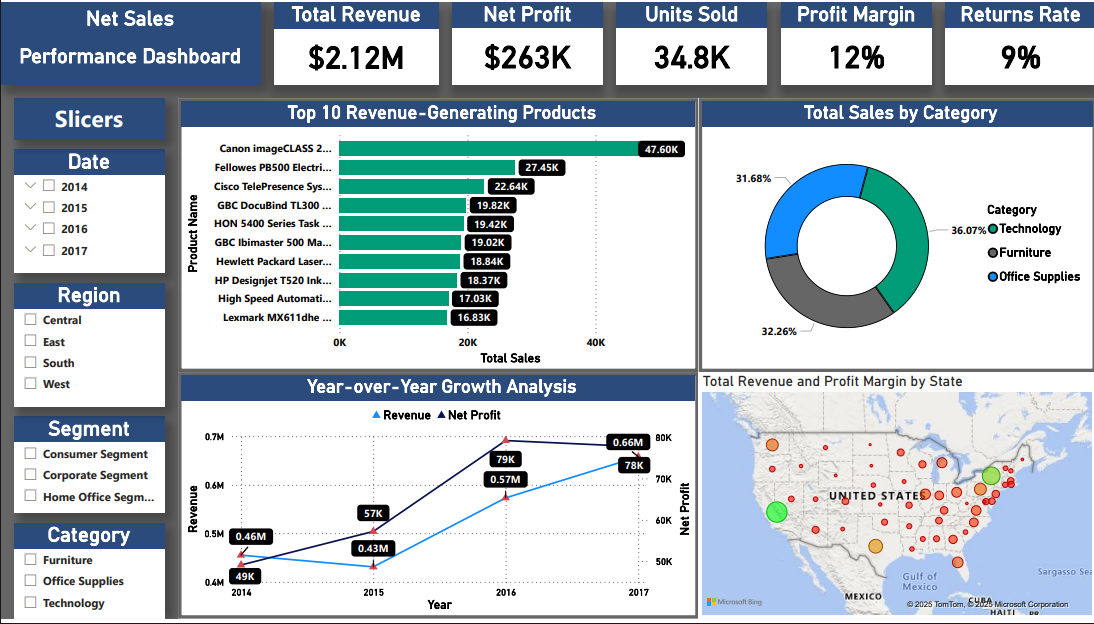

The page's visual inventory and layout, read from the dashboard file:
{"tool":"powerbi","page":{"name":"Sales & Profit Analysis","canvas":[1280,720],"ordinal":0},"visuals":[{"type":"card","title":"Total Revenue","fields":{"Values":["Orders.Total Sales"]},"box":[320,0,192,96],"z":0},{"type":"card","title":"Net Profit","fields":{"Values":["Orders.Total Profit"]},"box":[528,0,176,96],"z":1000},{"type":"card","title":"Units Sold","fields":{"Values":["Orders.Total Quantity"]},"box":[720,0,176,96],"z":2000},{"type":"card","title":"Returns Rate","fields":{"Values":["Orders.Return Rate"]},"box":[1104,0,176,96],"z":3000},{"type":"barChart","title":"Top 10 Revenue-Generating Products","fields":{"Y":["Orders.Total Sales"],"Category":["Orders.Product Name"]},"box":[208,112,608,320],"z":4000},{"type":"slicer","title":"Date","fields":{"Values":["Orders.Order Date.Variation.Date Hierarchy.Year","Orders.Order Date.Variation.Date Hierarchy.Quarter","Orders.Order Date.Variation.Date Hierarchy.Month","Orders.Order Date.Variation.Date Hierarchy.Day"]},"box":[16,172,176,144],"z":5000},{"type":"card","title":"Profit Margin","fields":{"Values":["Orders.Profit Margin"]},"box":[912,0,176,96],"z":6000},{"type":"slicer","title":"Segment","fields":{"Values":["Orders.Segment"]},"box":[16,484,176,112],"z":7000},{"type":"slicer","title":"Region","fields":{"Values":["Orders.Region"]},"box":[16,328,176,144],"z":8000},{"type":"lineChart","title":"Year-over-Year Growth Analysis","fields":{"Category":["Orders.Order Date.Variation.Date Hierarchy.Year","Orders.Order Date.Variation.Date Hierarchy.Quarter","Orders.Order Date.Variation.Date Hierarchy.Month","Orders.Order Date.Variation.Date Hierarchy.Day"],"Y":["Sum(Orders.Sales)"],"Y2":["Sum(Orders.Profit)"]},"box":[208,432,608,288],"z":9000},{"type":"donutChart","fields":{"Y":["Orders.Total Sales"],"Category":["Orders.Category","Orders.Sub-Category"]},"box":[816,112,464,320],"z":10000},{"type":"textbox","box":[16,112,176,48],"z":11000},{"type":"textbox","box":[0,0,304,96],"z":12000},{"type":"map","fields":{"Size":["Sum(Orders.Sales)"],"Category":["Orders.State"]},"box":[816,432,464,288],"z":13000},{"type":"slicer","title":"Category","fields":{"Values":["Orders.Category"]},"box":[16,608,176,112],"z":14000}]}

Visuals, with their boxes in screenshot pixels (x1, y1, x2, y2), scaled from the page's 1280x720 canvas onto the 1094x624 screenshot:
"Total Revenue" card: 274,0,438,83
"Net Profit" card: 451,0,602,83
"Units Sold" card: 615,0,766,83
"Returns Rate" card: 944,0,1093,83
"Top 10 Revenue-Generating Products" barChart: 178,97,697,374
"Date" slicer: 14,149,164,274
"Profit Margin" card: 779,0,930,83
"Segment" slicer: 14,419,164,517
"Region" slicer: 14,284,164,409
"Year-over-Year Growth Analysis" lineChart: 178,374,697,623
donutChart - Orders.Total Sales x Orders.Category: 697,97,1093,374
textbox: 14,97,164,139
textbox: 0,0,260,83
map - Sum(Orders.Sales) x Orders.State: 697,374,1093,623
"Category" slicer: 14,527,164,623
